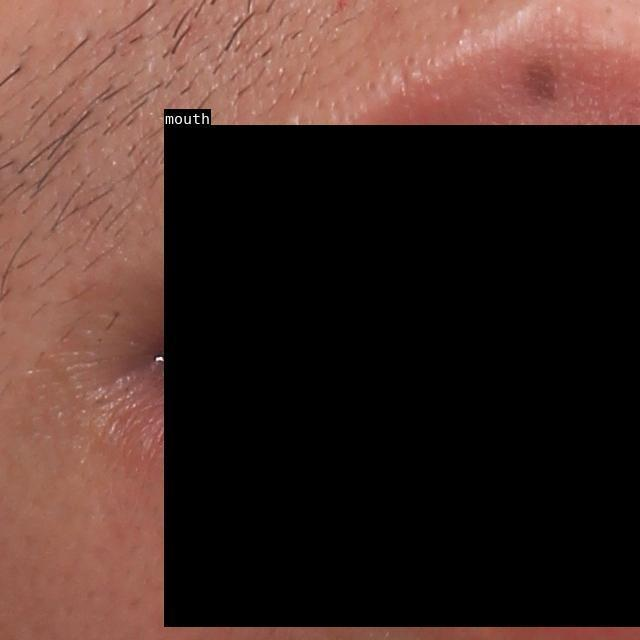nevus: (517, 51, 566, 109)
